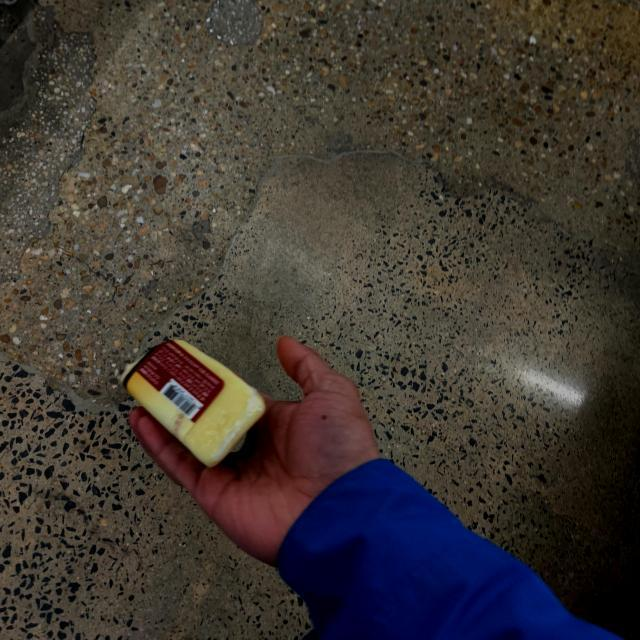Straw Berry: (126, 332, 264, 468)
